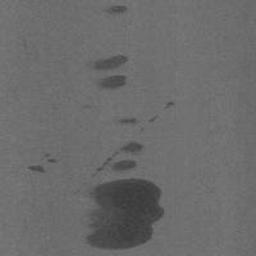Oil spot: (70, 141, 165, 251), (86, 54, 129, 72), (97, 74, 128, 91), (101, 4, 128, 18), (119, 115, 141, 125), (44, 152, 59, 165), (27, 164, 46, 174), (164, 100, 177, 109), (147, 114, 159, 123)
